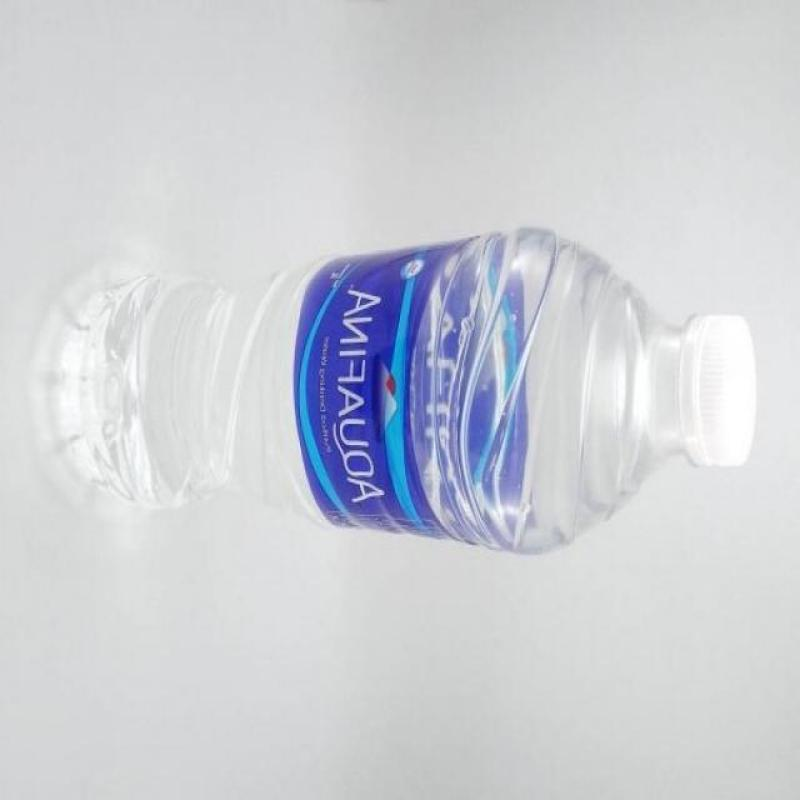botella: (40, 229, 756, 555)
